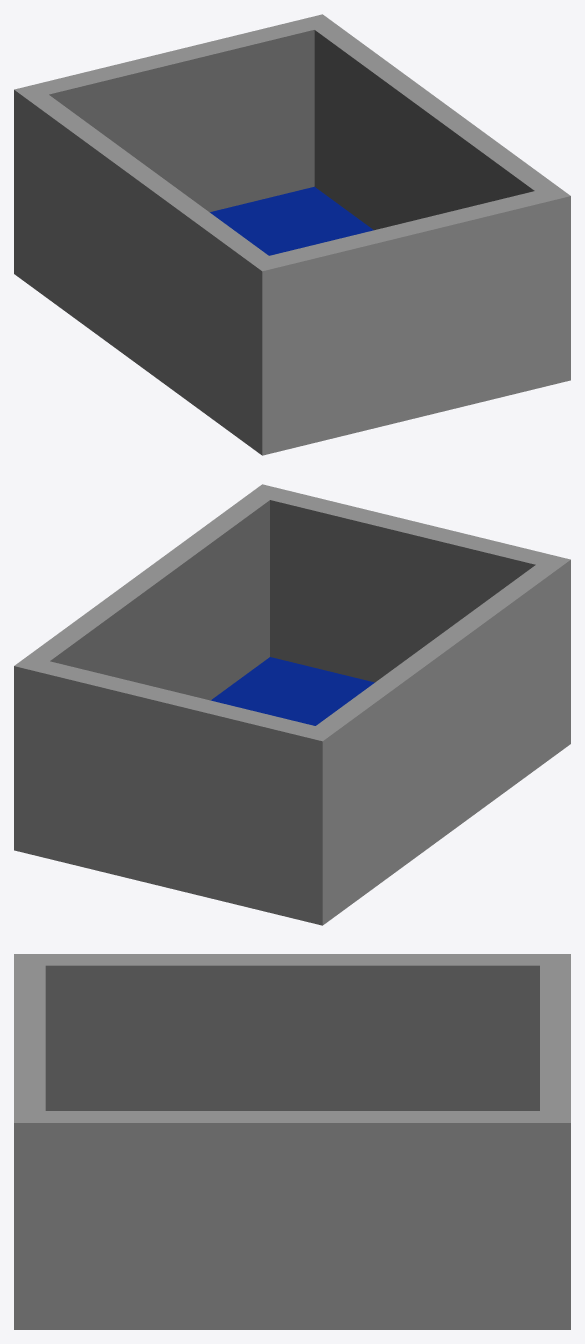
The model's file is NightStand_Drawer.fbx.
3 views of the same model, one above another, from view 1: azimuth 30°, elevation 25°; view 2: azimuth 150°, elevation 25°; view 3: azimuth 270°, elevation 25° (orthographic). The views are drawn at different scales.
Visible parts, largest first — view 1: Dark grey Mesh (1), darkest grey Mesh (1), Drak Blue Mesh (1); view 2: Dark grey Mesh (1), darkest grey Mesh (1), Drak Blue Mesh (1); view 3: Dark grey Mesh (1), darkest grey Mesh (1).
Boxes of the visible parts, left/top/right/bottom form: Dark grey Mesh (1): left=14, top=14, right=570, bottom=455; darkest grey Mesh (1): left=49, top=30, right=534, bottom=230; Drak Blue Mesh (1): left=210, top=186, right=373, bottom=255; Dark grey Mesh (1): left=14, top=484, right=570, bottom=925; darkest grey Mesh (1): left=50, top=500, right=535, bottom=700; Drak Blue Mesh (1): left=211, top=657, right=374, bottom=725; Dark grey Mesh (1): left=14, top=954, right=570, bottom=1329; darkest grey Mesh (1): left=45, top=965, right=539, bottom=1110.
Bounding box in the file's own units: 0.4279 × 0.2442 × 0.5962.
